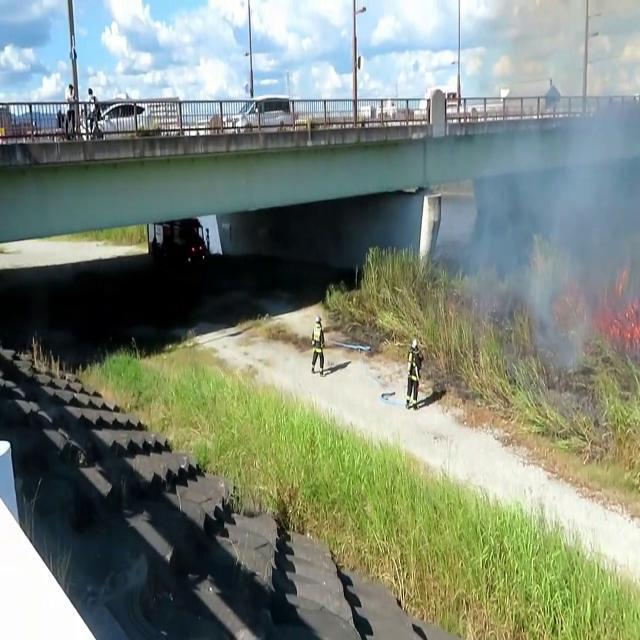Smoke: (466, 49, 640, 370)
